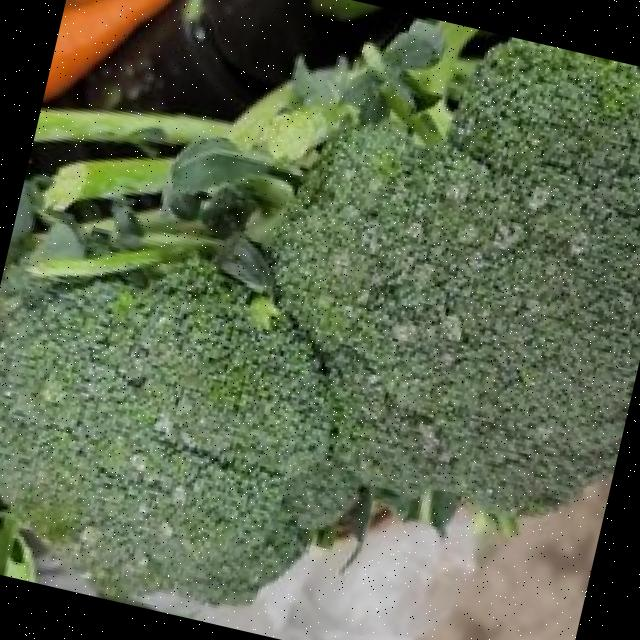Broccoli: (0, 37, 640, 601), (0, 37, 640, 601)
